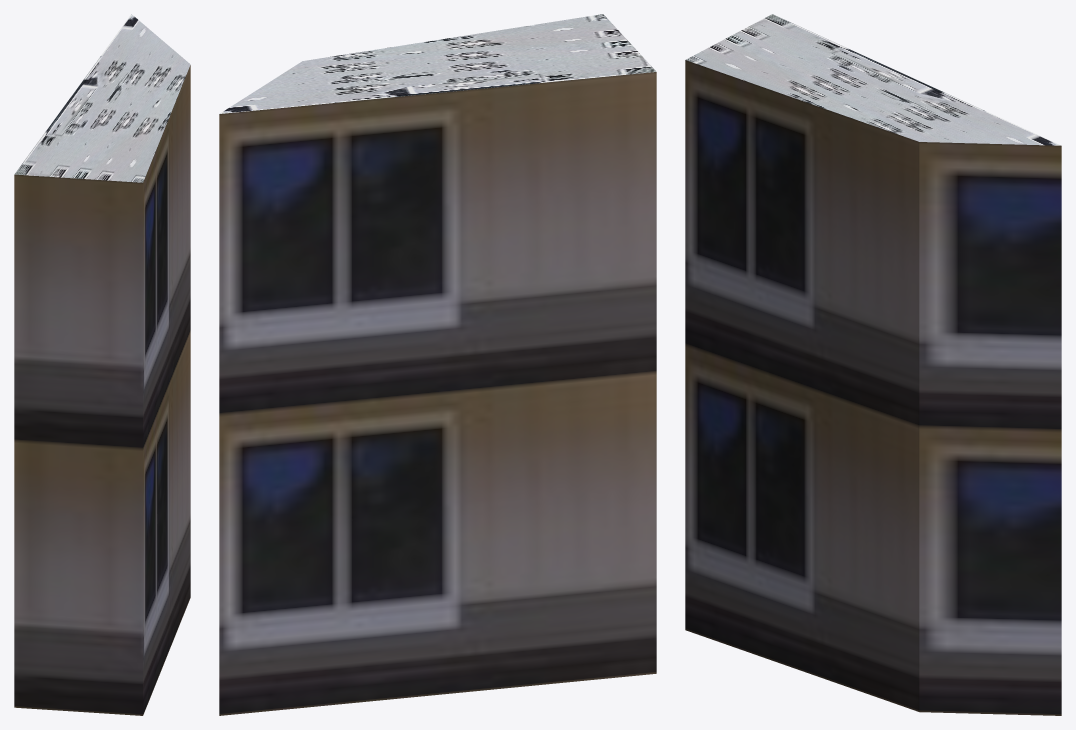
File: ResTex__4953.fbx
3 views of the same model, side by side, from view 1: azimuth 30°, elevation 25°; view 2: azimuth 150°, elevation 25°; view 3: azimuth 270°, elevation 25° (orthographic). The views are drawn at different scales.
Parts seen in each view (by area): view 1: CityEngineMaterial_5_m, CityEngineMaterial_8_m; view 2: CityEngineMaterial_5_m, CityEngineMaterial_8_m; view 3: CityEngineMaterial_5_m, CityEngineMaterial_8_m.
Part boxes in pixels (left/top/right/bottom): CityEngineMaterial_5_m: left=14, top=65, right=190, bottom=715; CityEngineMaterial_8_m: left=14, top=14, right=190, bottom=182; CityEngineMaterial_5_m: left=219, top=72, right=656, bottom=715; CityEngineMaterial_8_m: left=220, top=14, right=656, bottom=113; CityEngineMaterial_5_m: left=685, top=60, right=1061, bottom=715; CityEngineMaterial_8_m: left=686, top=14, right=1060, bottom=145.
Bounding box in the file's own units: 2.97 × 6 × 3.59.
2 materials, 2 textured.
